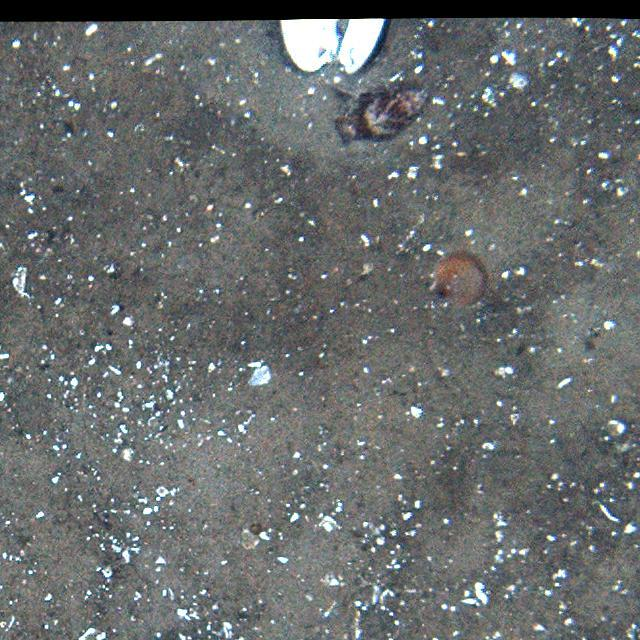flatfish: (331, 80, 434, 145)
